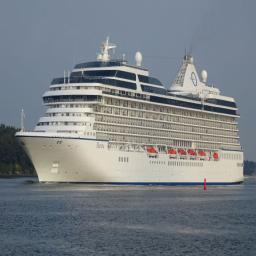cruises: (14, 30, 246, 190)
